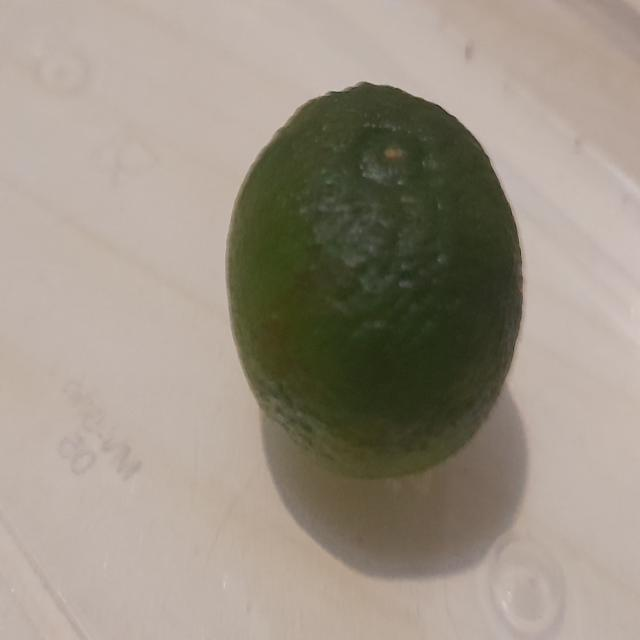heathy: (223, 79, 529, 481)
